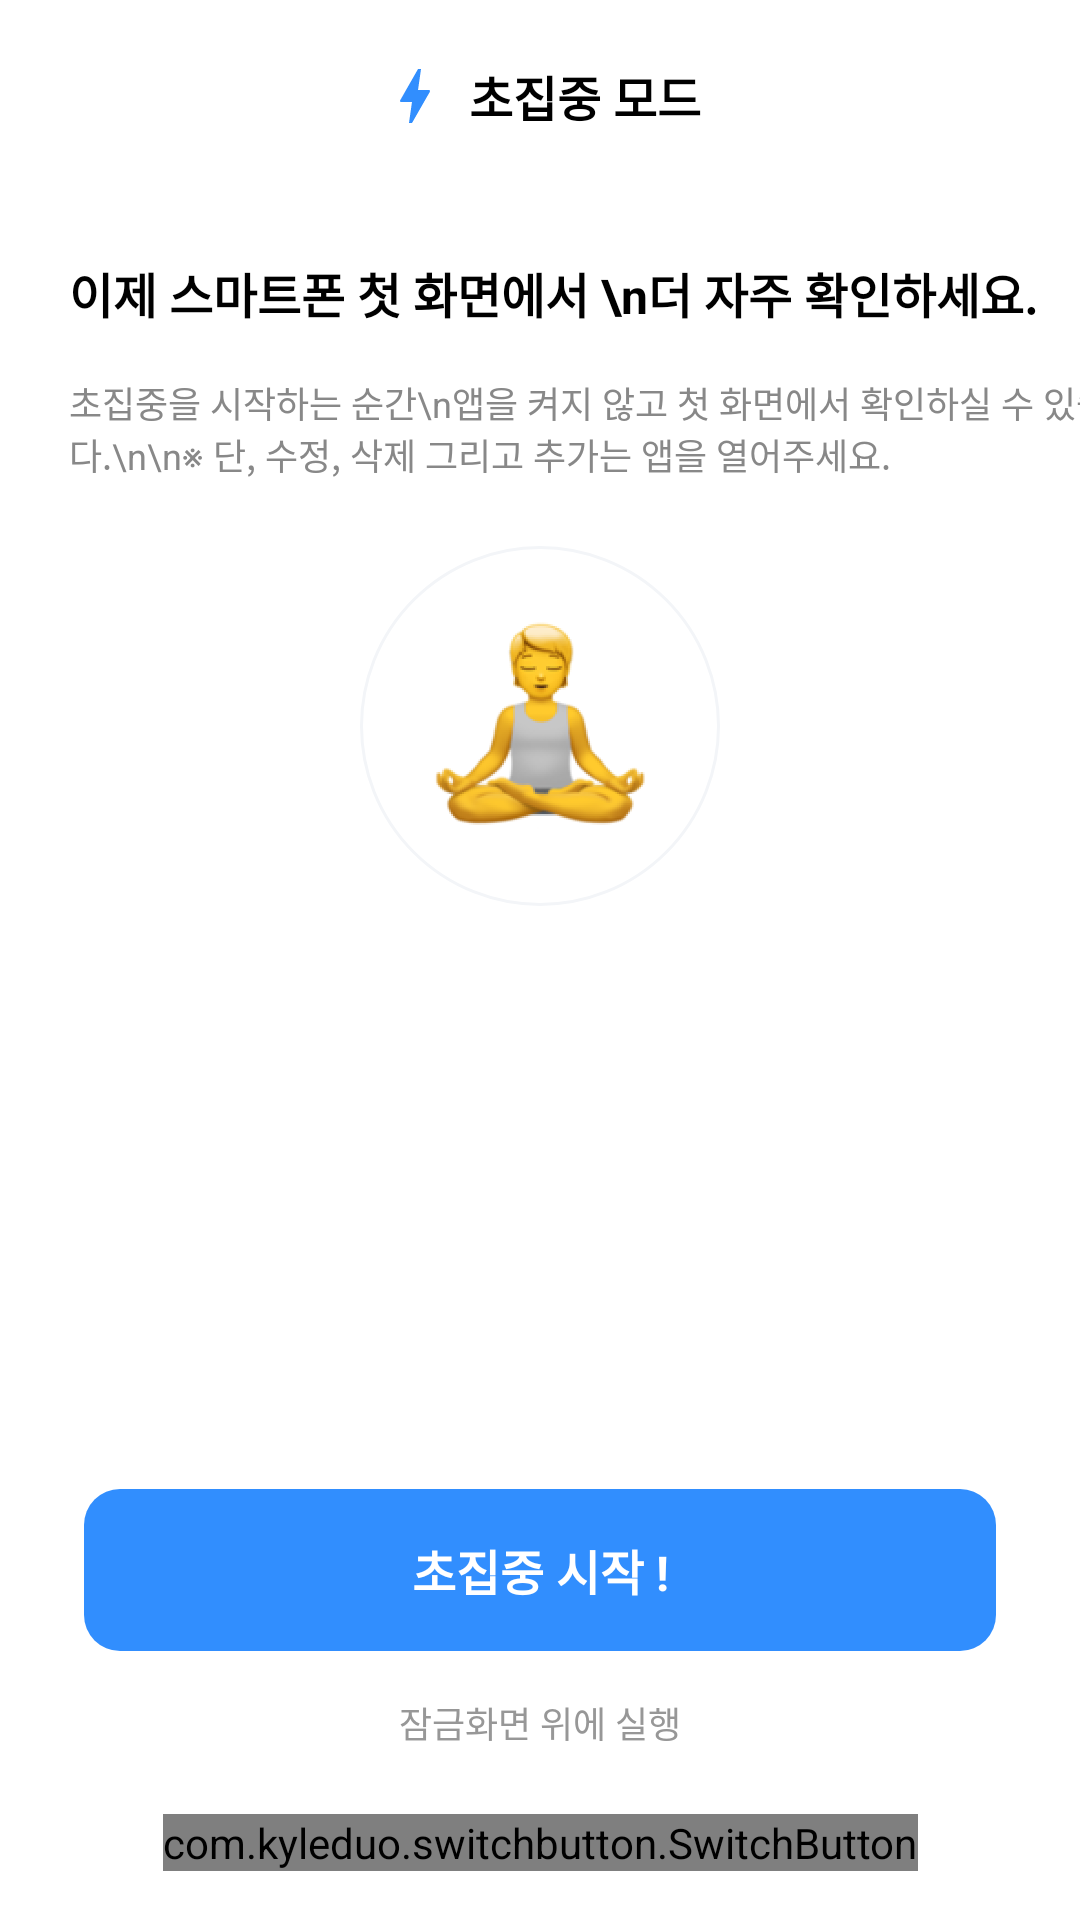

Icon bounding boxes for this 1080 × 1920 phone screenshot, format box=[x1, y1, x2, y2]:
go super focus: box=[400, 69, 430, 123]
super focus emoji: box=[436, 623, 645, 825]
